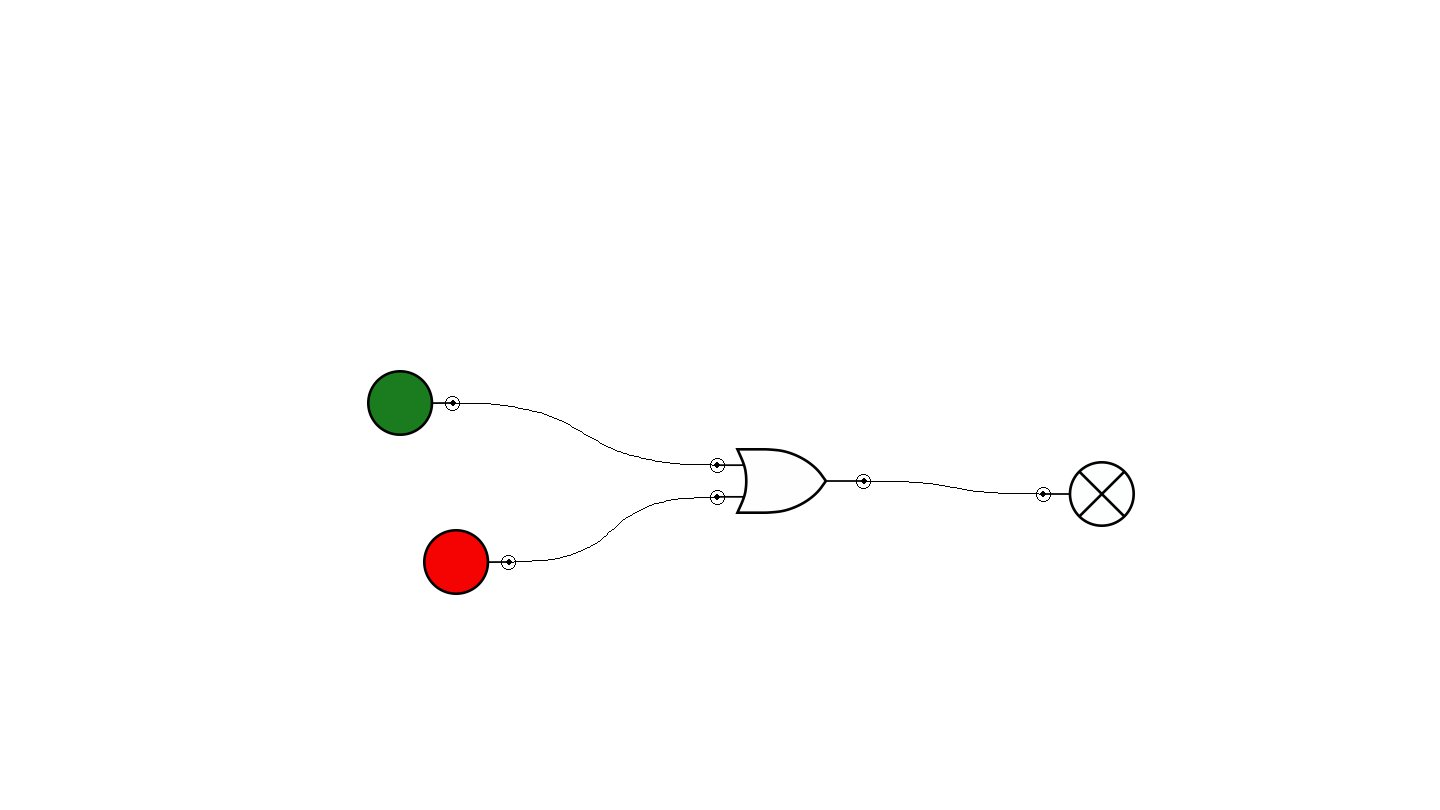bulb: (1036, 461, 1135, 527)
or: (710, 448, 871, 514)
switch_False: (423, 529, 516, 595)
switch_True: (367, 370, 460, 436)
